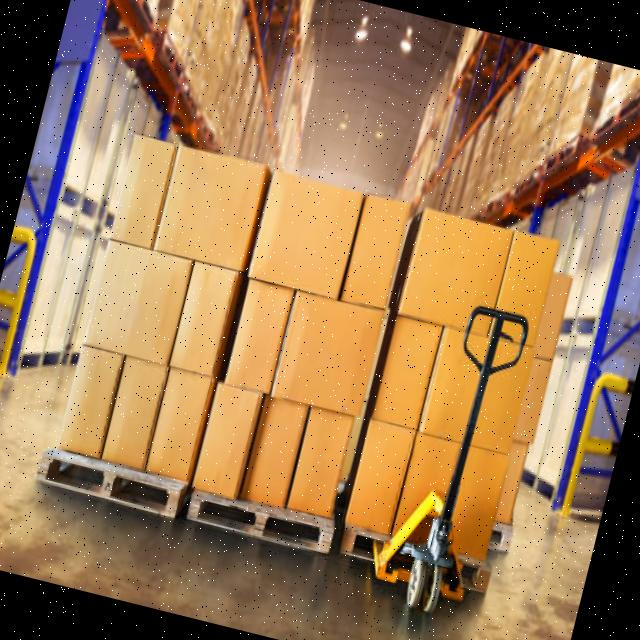Wooden-Pallets: (20, 445, 187, 538), (179, 478, 343, 572)
